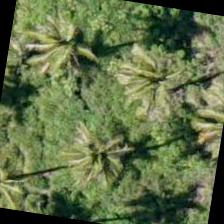Kelapa_Sawit: (12, 1, 115, 104), (47, 113, 150, 216), (102, 26, 204, 130), (108, 30, 211, 132), (0, 139, 50, 214)
